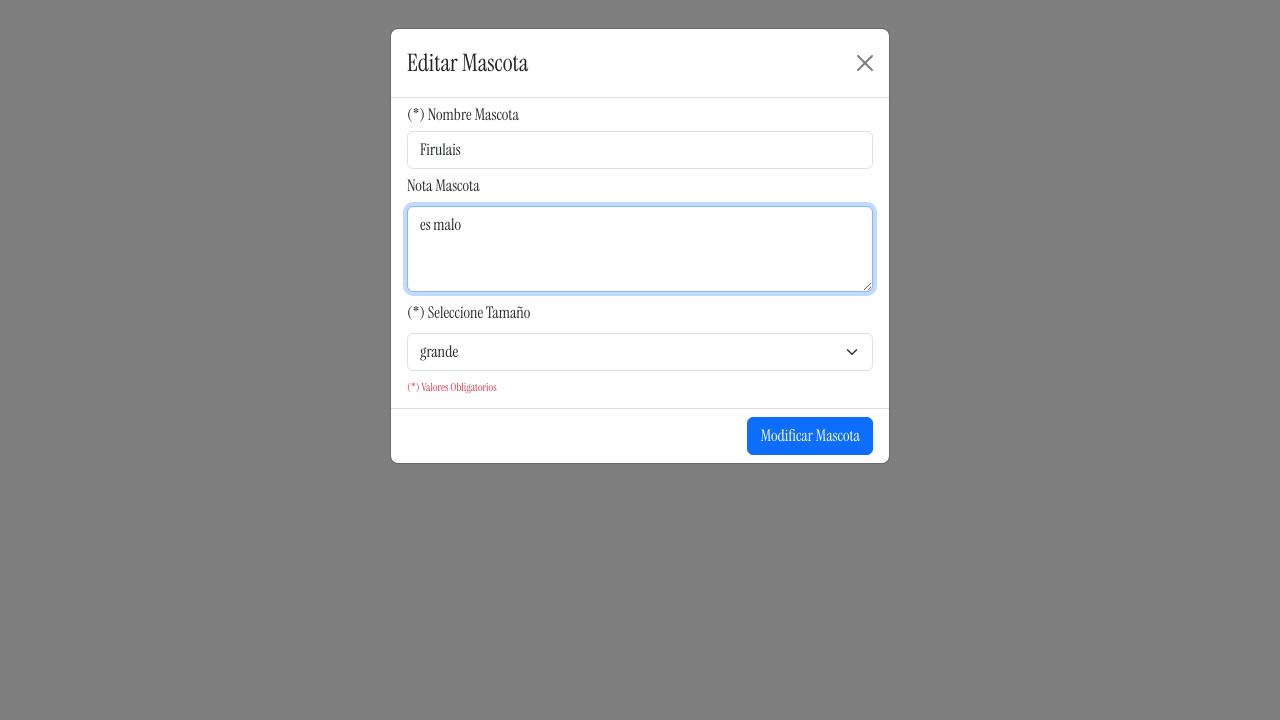
Test case: ModalEditPet › El botón Editar  se deshabilita si se borran los campos obligatorios
Check: the button "Modificar Mascota" is enabled, box top-left (747, 417), bottom-right (873, 455)
Clear the field labelled "(*) Nombre Mascota": coordinates (640, 150) top-left (407, 131), bottom-right (873, 169)
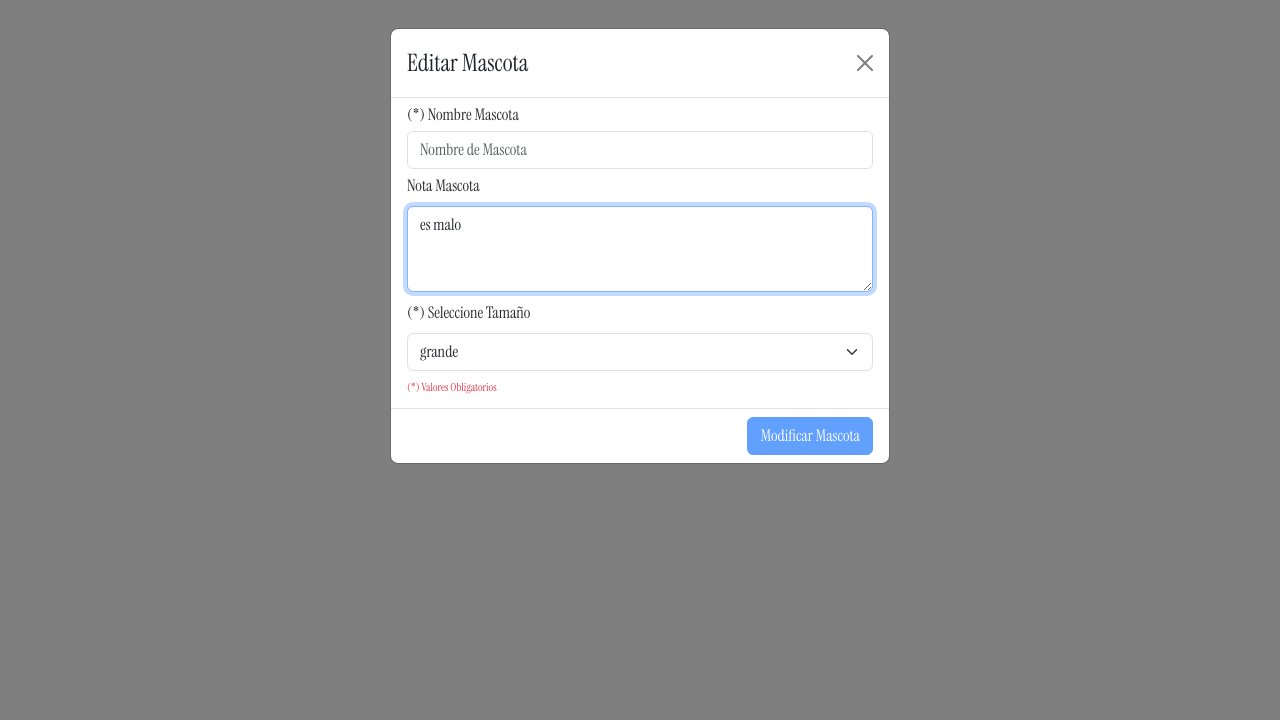
Check: the button "Modificar Mascota" is disabled, box top-left (747, 417), bottom-right (873, 455)
